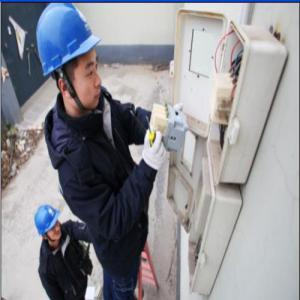blue: (36, 4, 105, 116), (35, 204, 62, 248)
